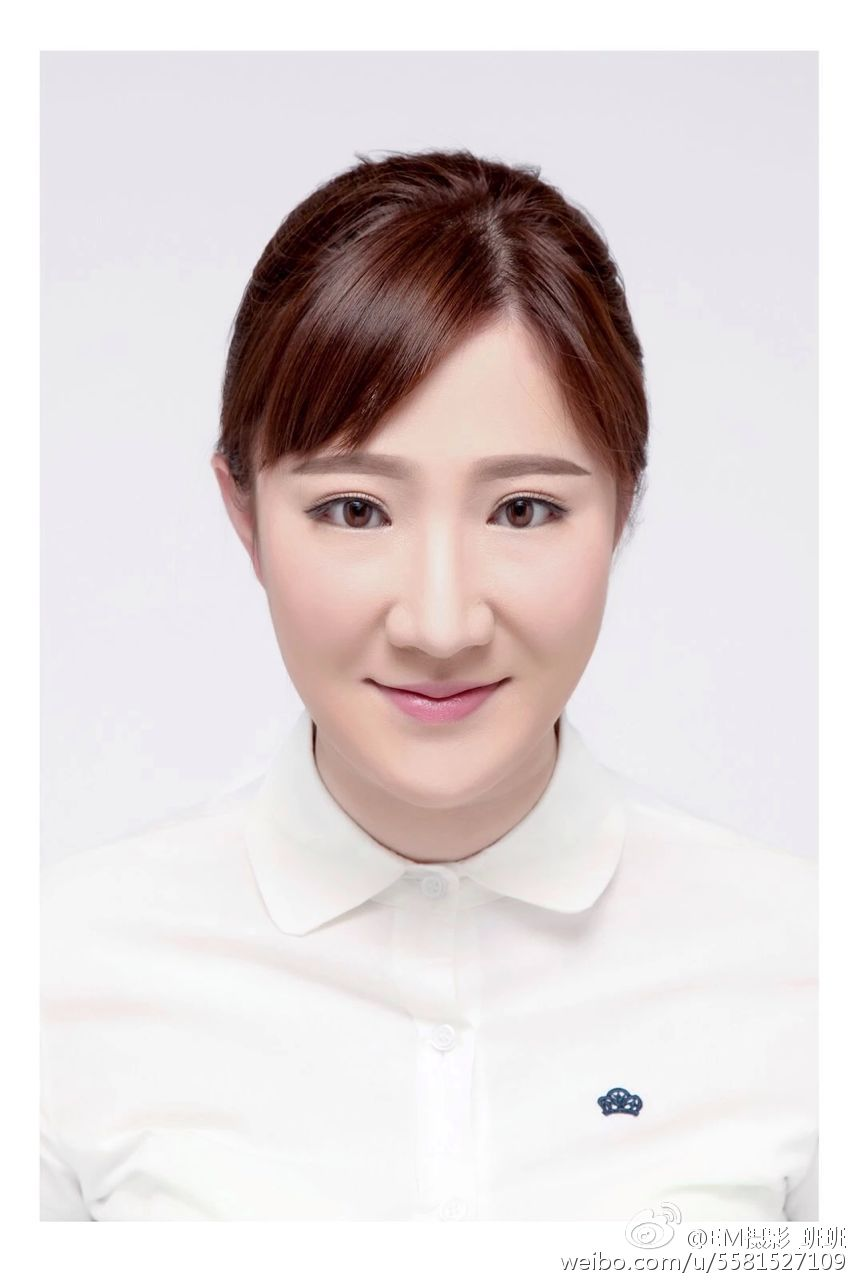unmask: (278, 355, 609, 781)
